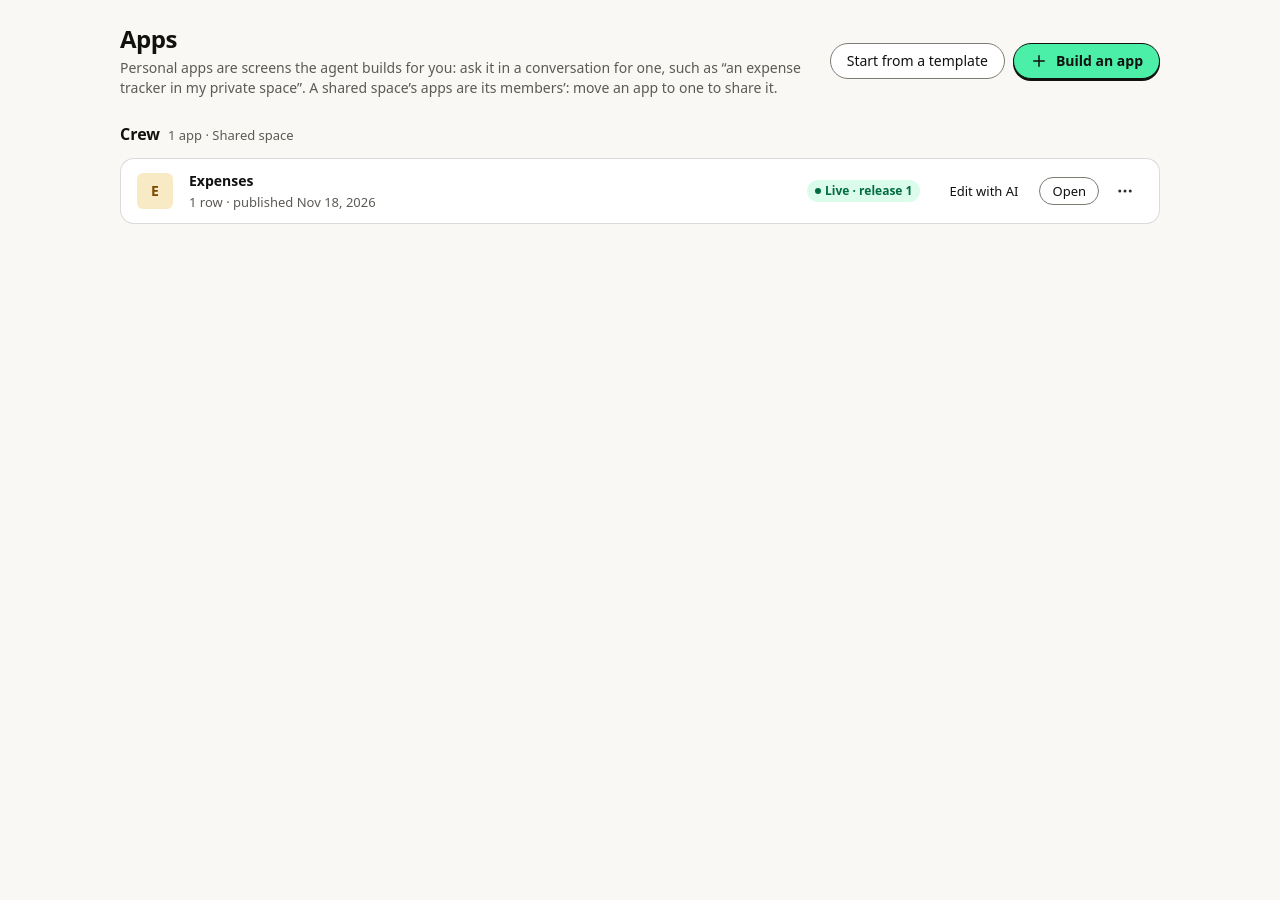
Scenario: a builder sets the roles of members of a shared space
This screenshot has width=1280, height=900.
Click the button named "More actions for Expenses" at (1125, 191), box [1107, 173, 1143, 209]
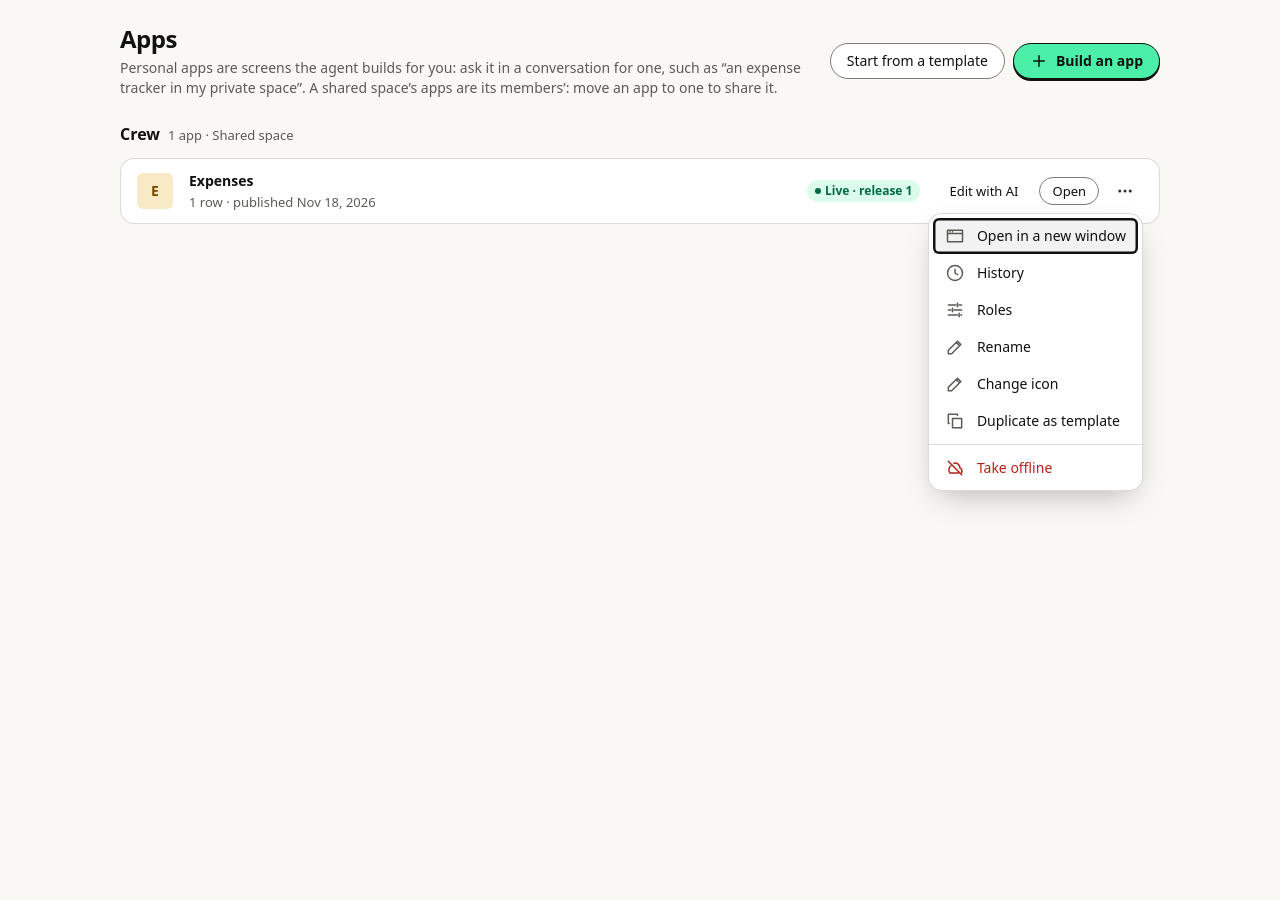
Click the menu item "Roles" at (1035, 310), box [933, 292, 1138, 328]
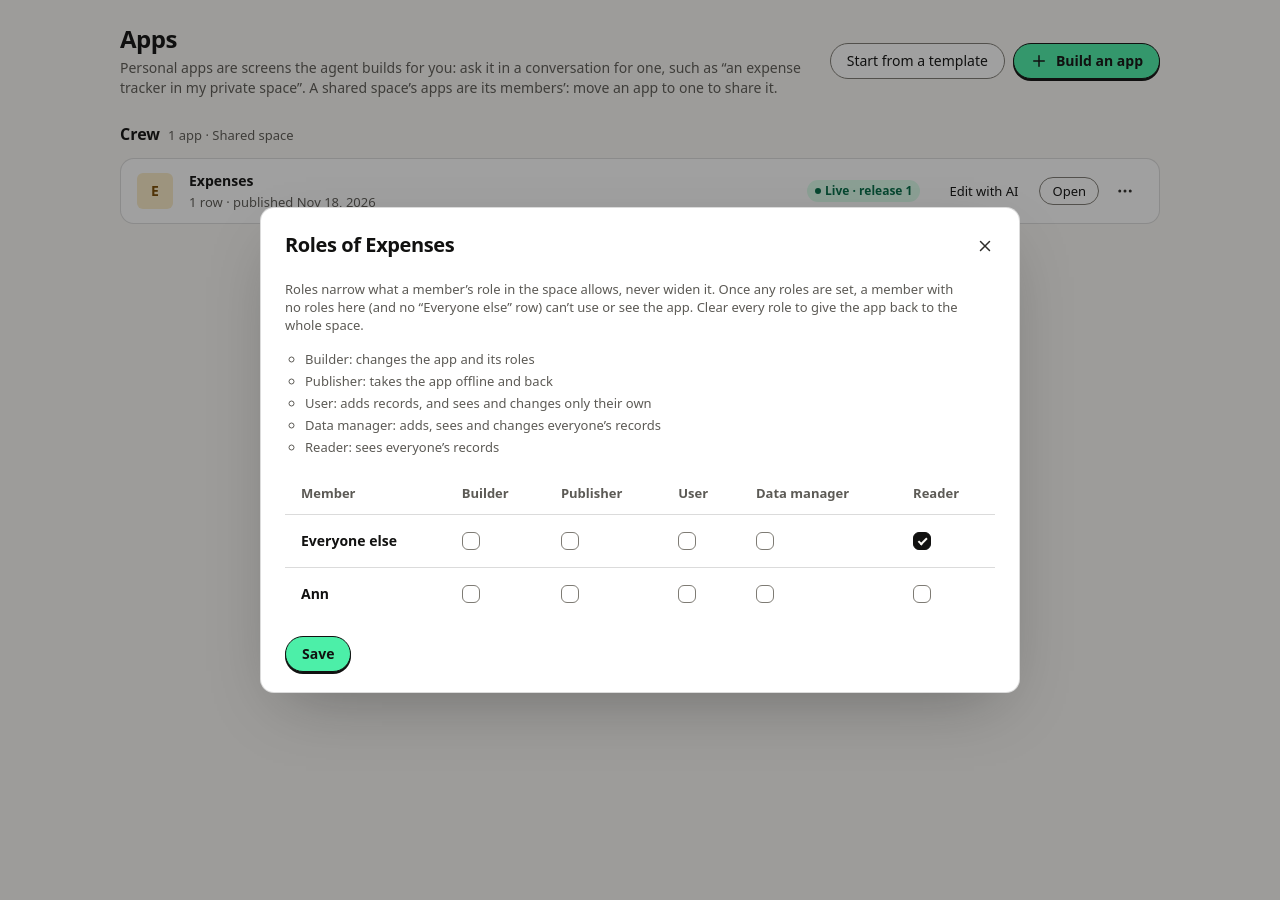
expect the column headings read "Member", "Builder", "Publisher", "User", "Data manager", "Reader", in this order: met, box [285, 472, 446, 514]; [446, 472, 545, 514]; [545, 472, 662, 514]; [662, 472, 740, 514]; [740, 472, 897, 514]; [897, 472, 995, 514]
expect the 5th checkbox named "Reader: Everyone else" is checked: met, box [913, 532, 931, 550]
Click the 8th checkbox named "User: Ann" at (687, 594), box [678, 585, 696, 603]
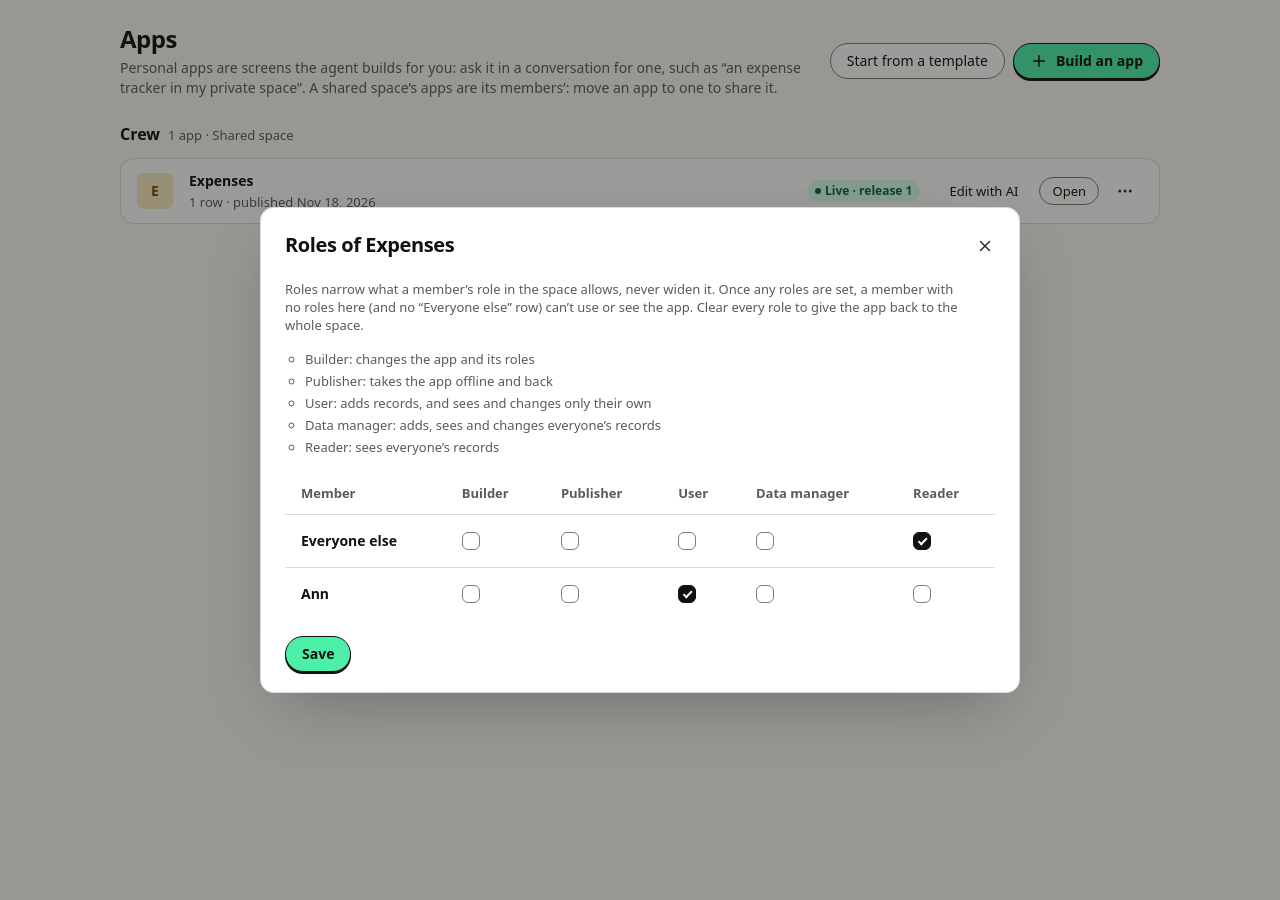
Click the button "Save" at (318, 654), box [285, 636, 351, 672]
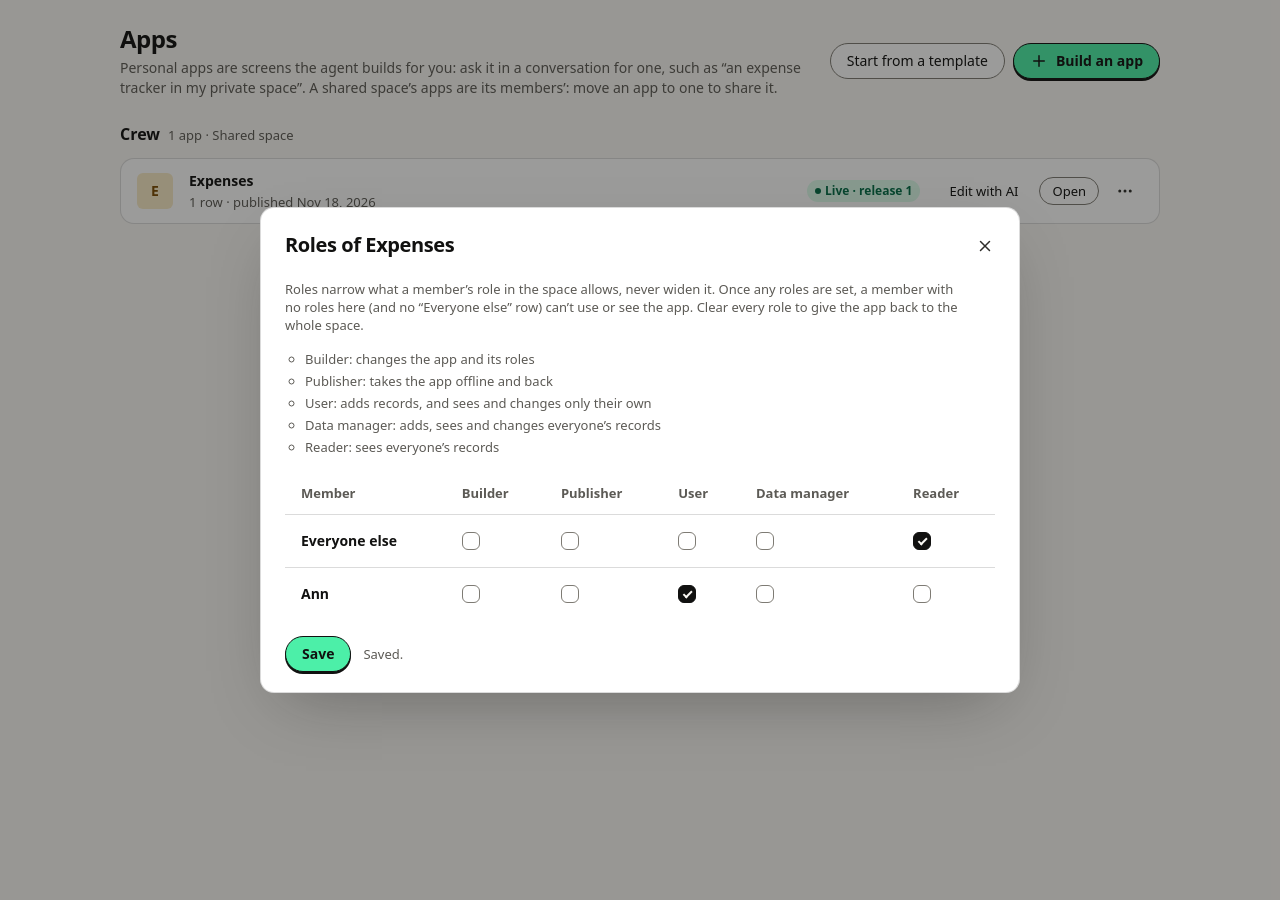
expect the text "Saved." is shown: met, box [363, 645, 403, 663]
